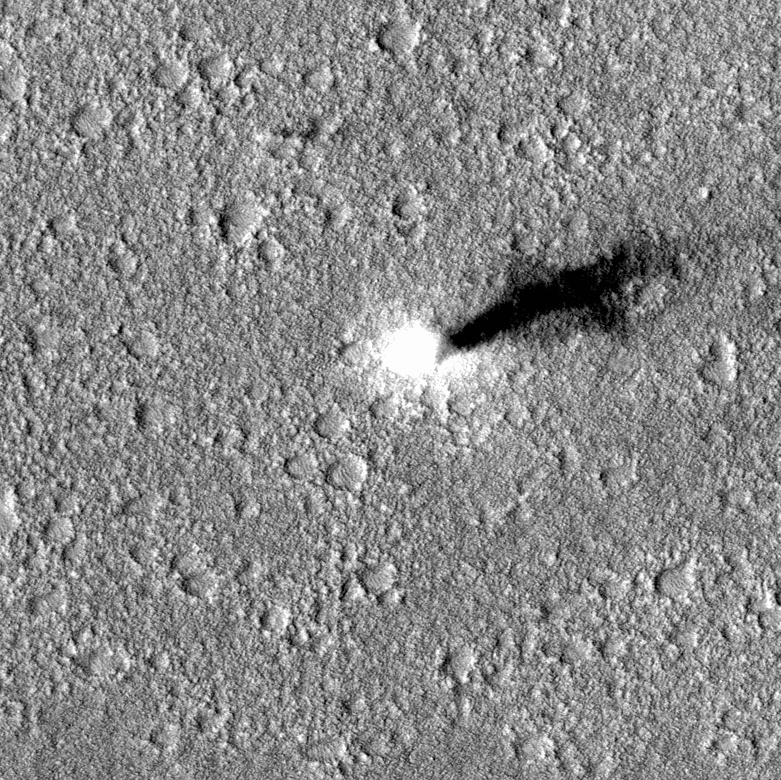dust_devil: (372, 230, 682, 389)
